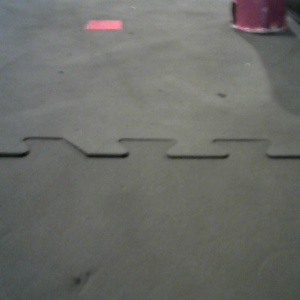Right: (230, 1, 289, 34)
